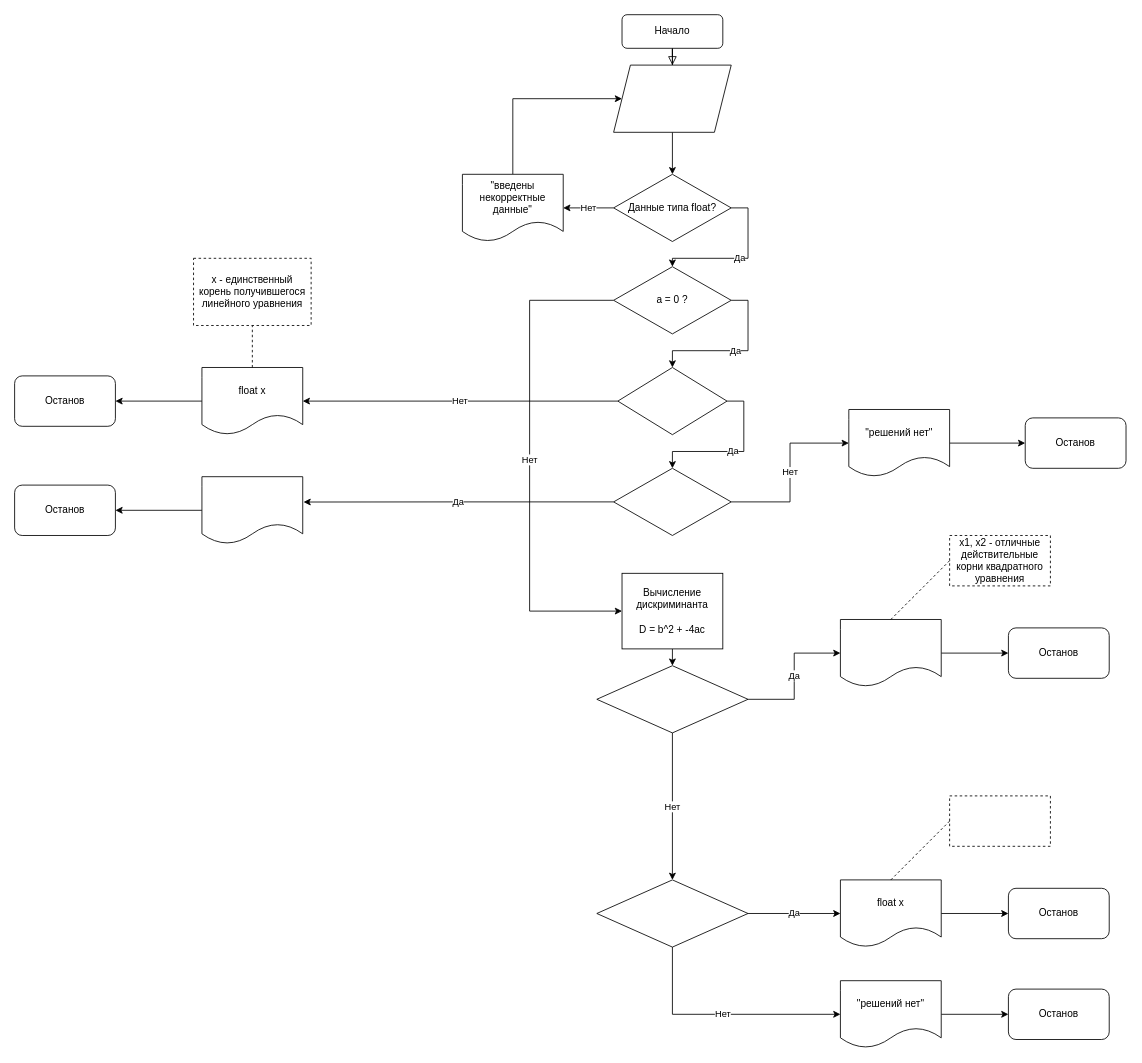
Some shapes in this 1142 by 1063 pixel diagram are drawn without their labels. The shapes that lost their labels are listed below. From the top down, each one's centre as x and y in pixels, then its label:
point 672,98: Ввод данных float a float b float c
point 672,401: b = 0 ?
point 252,510: "x - любое"
point 672,501: c = 0 ?
point 890,653: float x1 float x2
point 672,699: D > 0?
point 999,820: x - кратный корень квадратного уравнения
point 672,913: D = 0?
